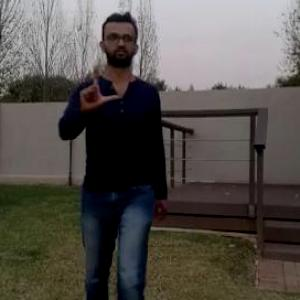land_hand: (77, 58, 119, 112)
